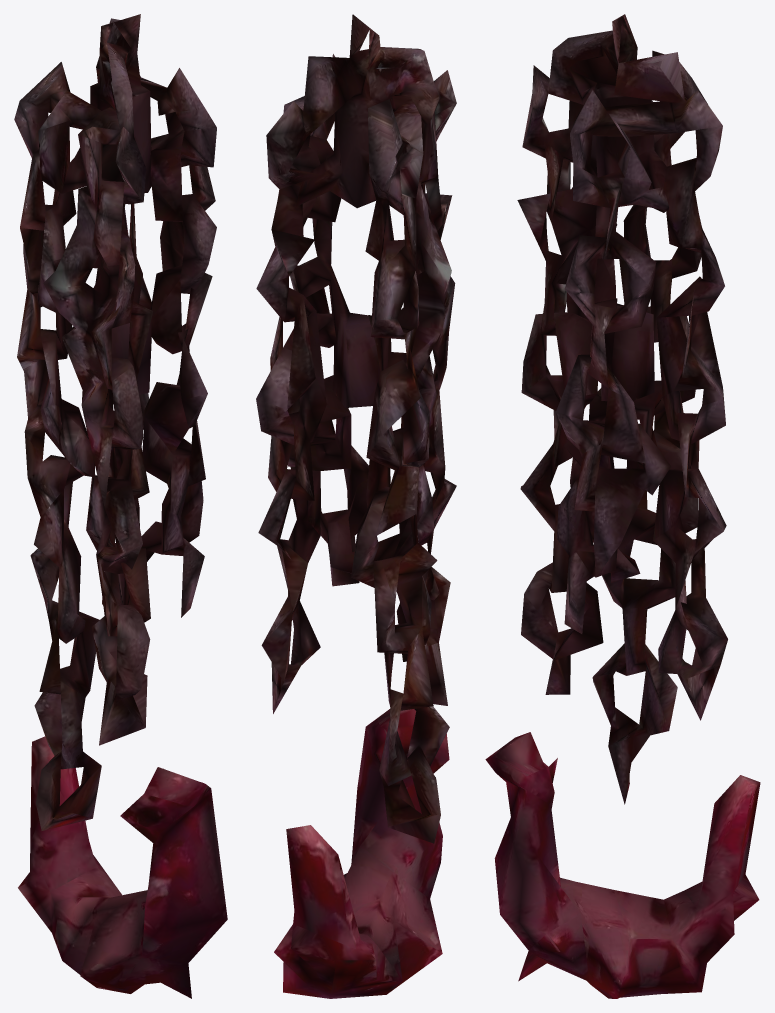
The model's file is hanging-chains.glb.
3 renders of one model, left to right at view 1: azimuth 30°, elevation 25°; view 2: azimuth 150°, elevation 25°; view 3: azimuth 270°, elevation 25°, orthographic.
Parts seen in each view (by area): view 1: tripo_node_57f69547-5b21-493a-ba57-def7471f82fd; view 2: tripo_node_57f69547-5b21-493a-ba57-def7471f82fd; view 3: tripo_node_57f69547-5b21-493a-ba57-def7471f82fd.
Boxes of the visible parts, x1=… form: tripo_node_57f69547-5b21-493a-ba57-def7471f82fd: x1=14, y1=14, x2=227, y2=998; tripo_node_57f69547-5b21-493a-ba57-def7471f82fd: x1=256, y1=14, x2=456, y2=998; tripo_node_57f69547-5b21-493a-ba57-def7471f82fd: x1=485, y1=14, x2=760, y2=998.
Size of the model in its own units: 0.1768 by 0.9741 by 0.2493.
1 material, 1 textured.
